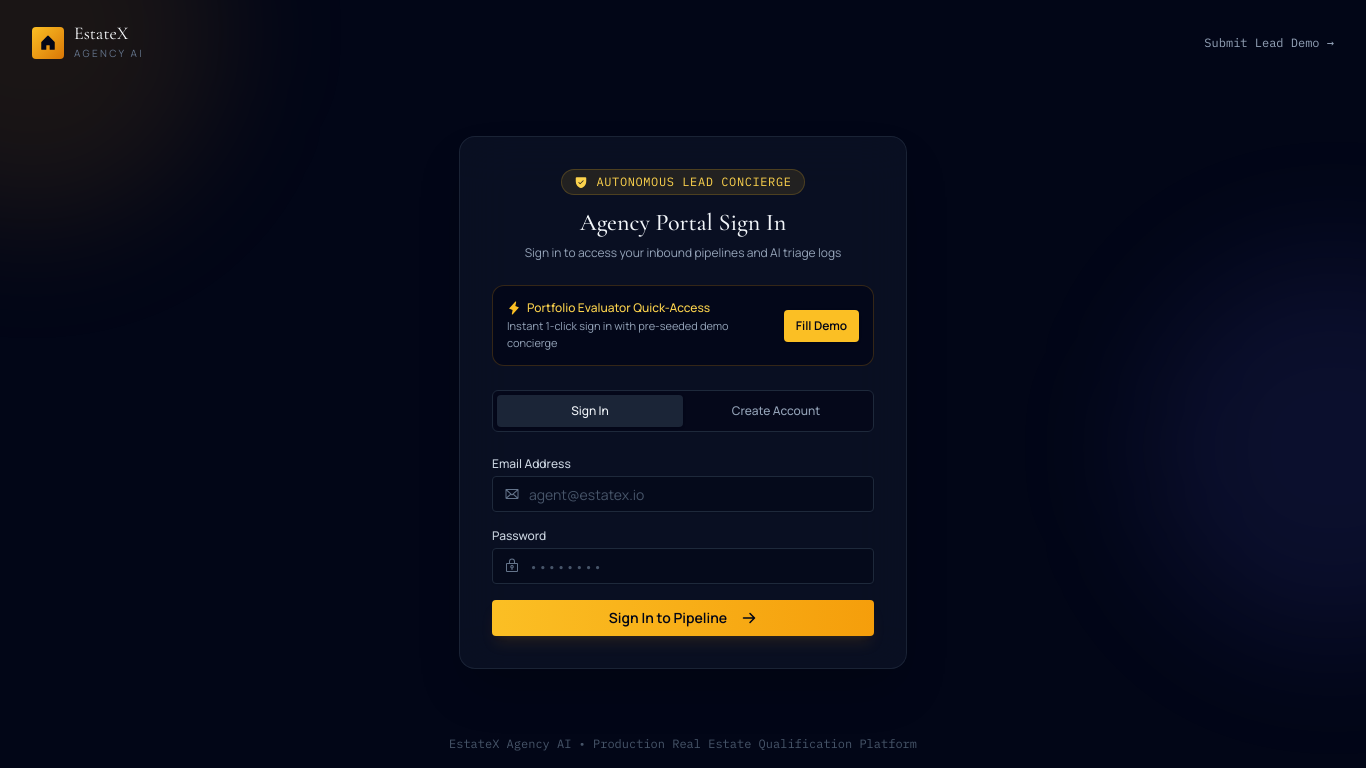
Test: Login Component › clicking demo fill prefills demo email and password
What coordinates should you click on to do the following:
click the button with test id "btn-demo-fill"
I would click on:
 (821, 326)
Its box is [784,310,859,342].
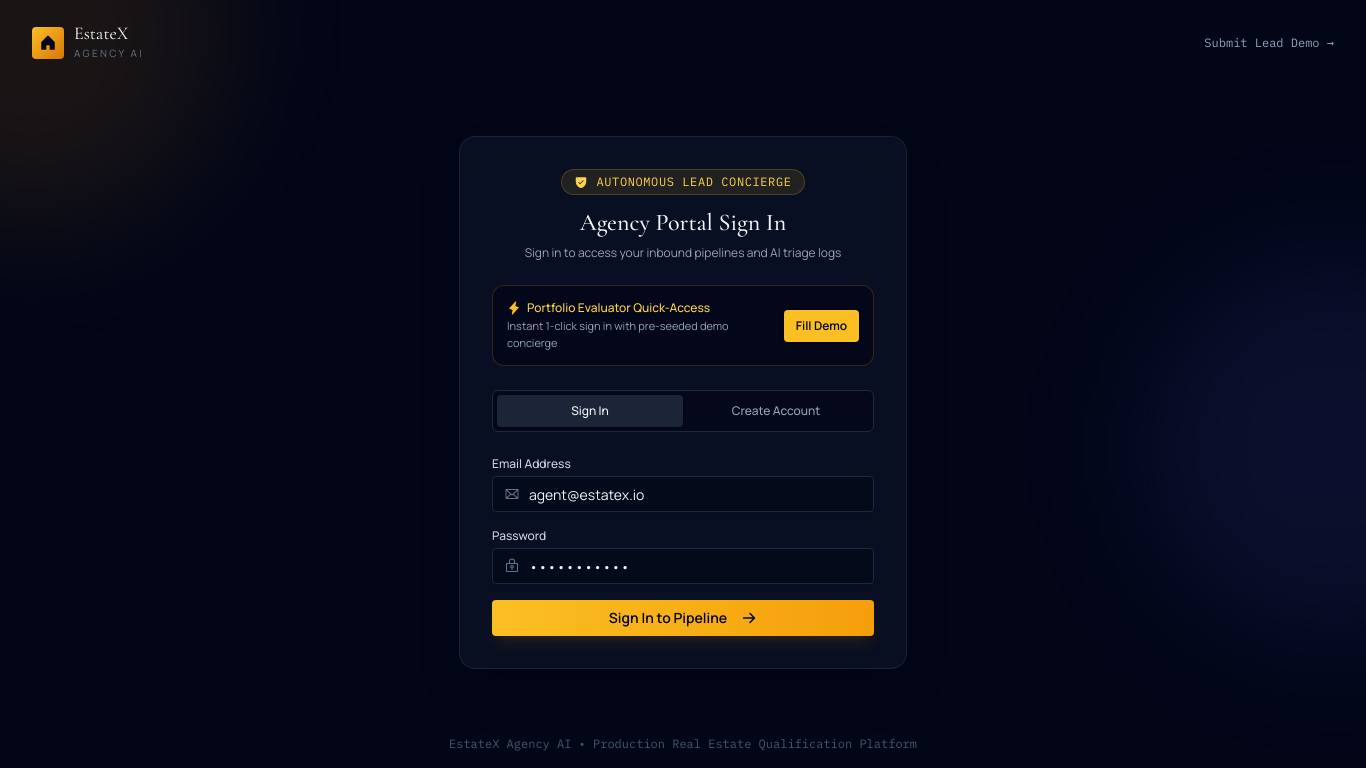
Check: the field with test id "input-email" holds "agent@estatex.io", box [492,476,874,512]
Check: the password field with test id "input-password" holds "estatex2026", box [492,548,874,584]
